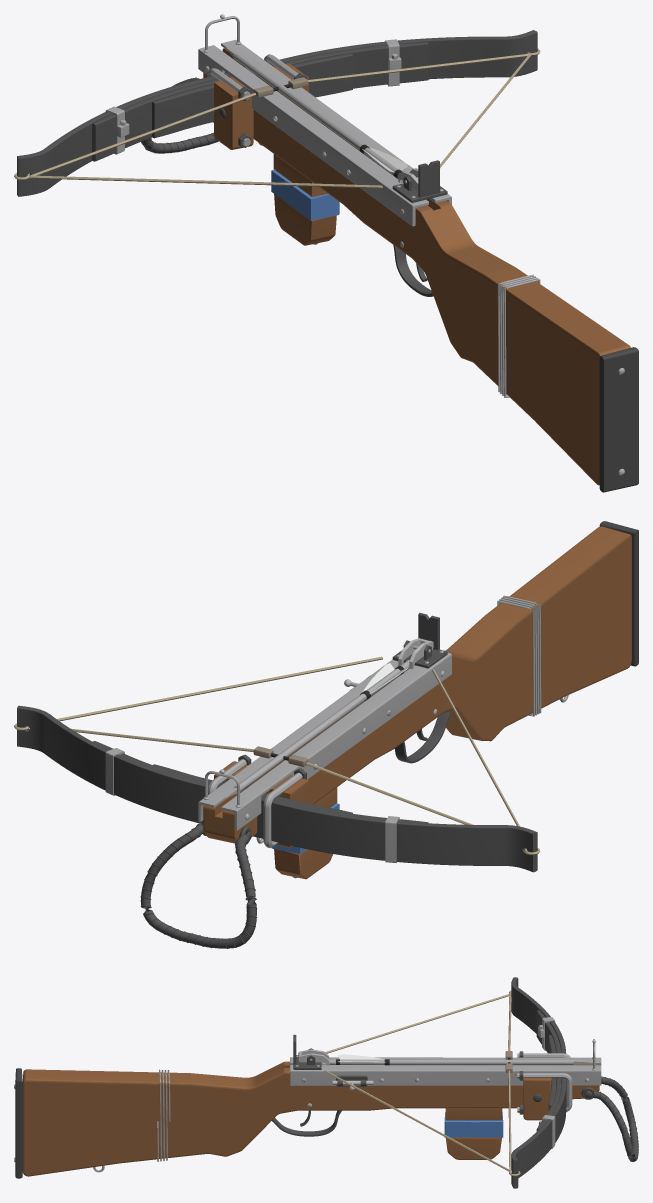
File: crossbow.glb
3 views of the same model, one above another, from view 1: azimuth 30°, elevation 25°; view 2: azimuth 150°, elevation 25°; view 3: azimuth 270°, elevation 25° (orthographic). The views are drawn at different scales.
Visible parts, largest first — view 1: static, static_rail_bolt, string_drawn, string_rest; view 2: static, static_rail_bolt, string_drawn, string_rest; view 3: static, static_rail_bolt, string_drawn, string_rest.
Boxes of the visible parts, box(x1,y1,x2,y2) form: static: box(14, 14, 638, 492); static_rail_bolt: box(225, 47, 407, 182); string_drawn: box(29, 54, 531, 188); string_rest: box(29, 53, 529, 175); static: box(14, 521, 638, 948); static_rail_bolt: box(225, 660, 409, 798); string_drawn: box(57, 656, 519, 826); string_rest: box(71, 728, 473, 824); static: box(14, 977, 638, 1188); static_rail_bolt: box(322, 1054, 590, 1065); string_drawn: box(324, 993, 510, 1171); string_rest: box(508, 993, 511, 1170).
Bounding box in the file's own units: 0.6201 × 0.21 × 0.8834.
